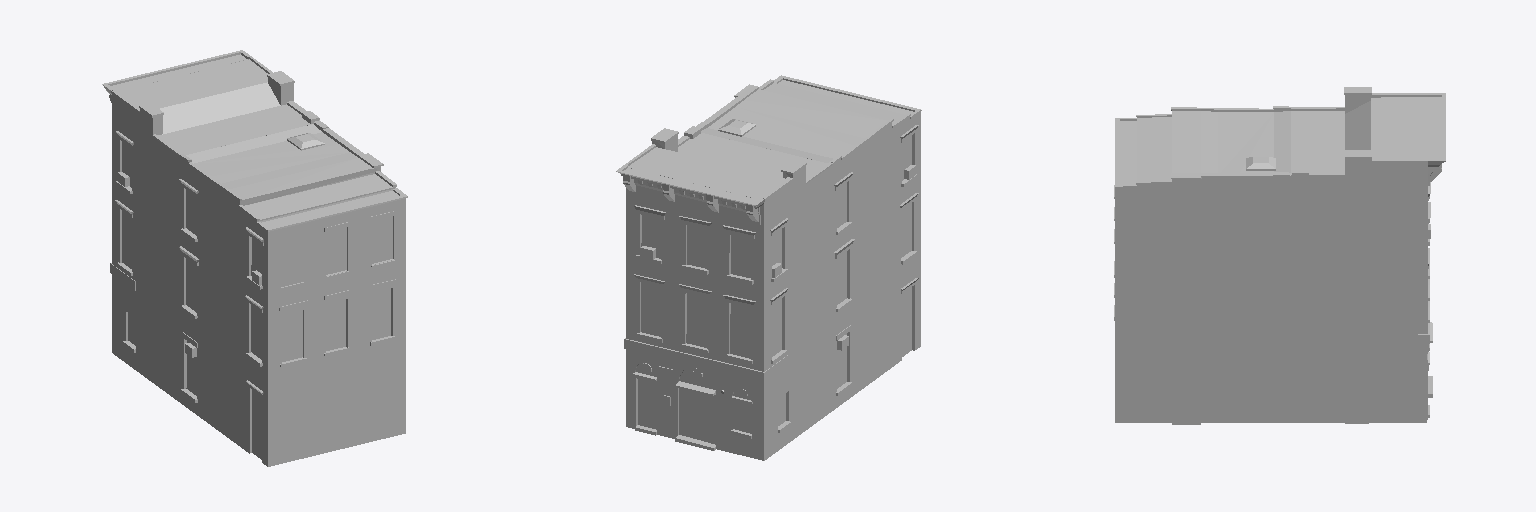
Rendered from igreja.obj.
3 views of the same model, side by side, from view 1: azimuth 30°, elevation 25°; view 2: azimuth 150°, elevation 25°; view 3: azimuth 270°, elevation 25° (orthographic).
Parts seen in each view (by area): view 1: Object_4; view 2: Object_4; view 3: Object_4.
Part boxes in pixels (x1,y1,x2,y2): Object_4: (102, 50, 407, 466); Object_4: (616, 75, 921, 460); Object_4: (1114, 87, 1445, 424).
Size of the model in its own units: 6.77 by 11.88 by 13.32.